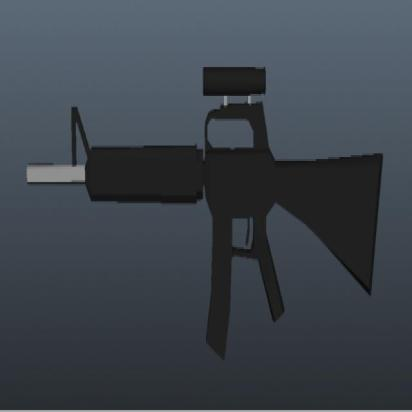Gun: (27, 62, 383, 366)
